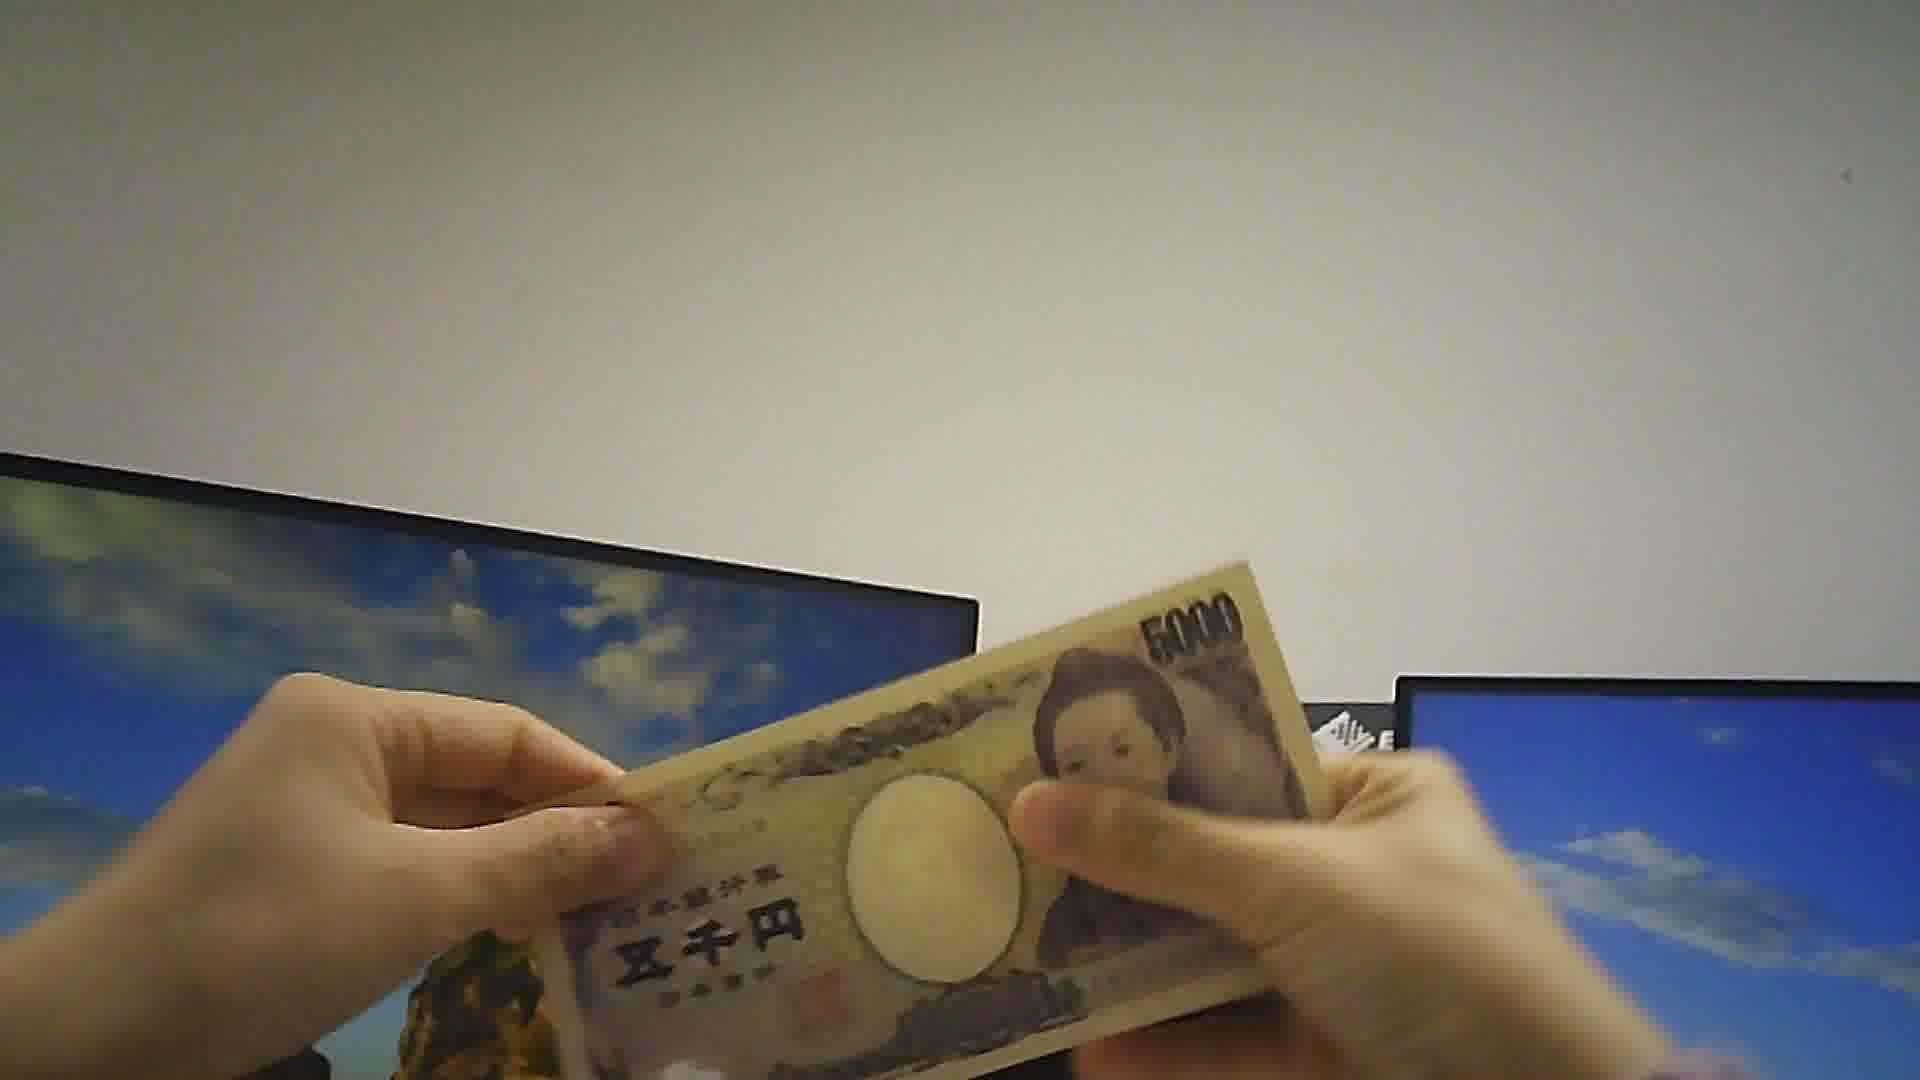5,000 Yen: (465, 583, 1273, 1073)
